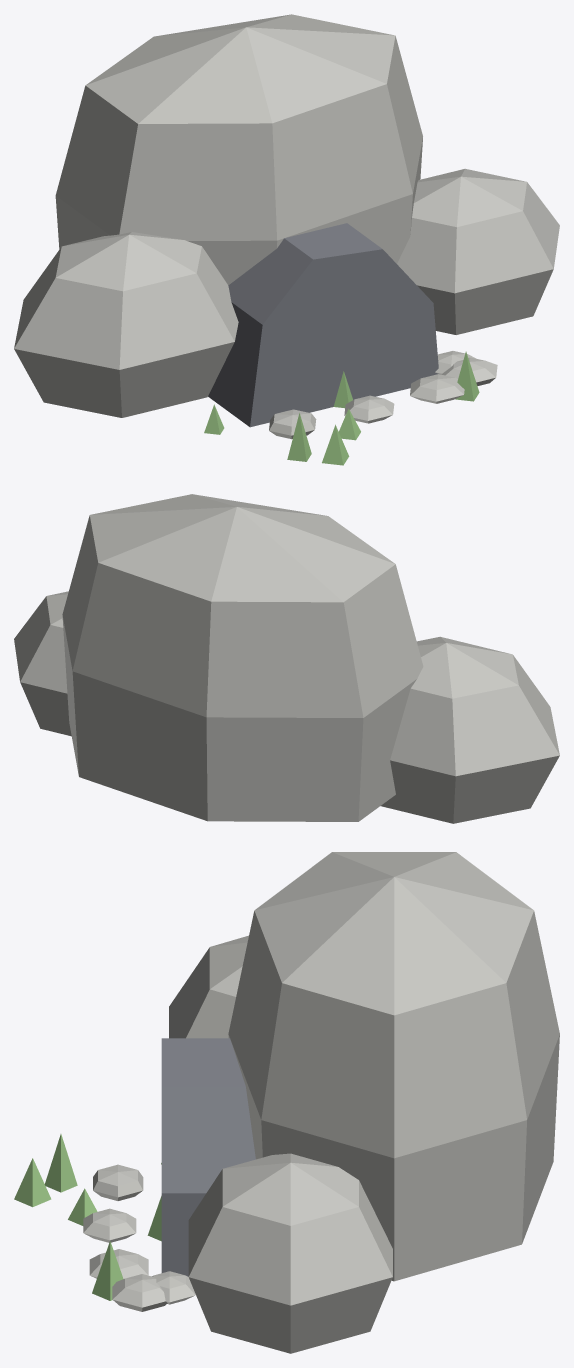
Rendered from cave-mouth.glb.
3 renders of one model, top to bottom at view 1: azimuth 30°, elevation 25°; view 2: azimuth 150°, elevation 25°; view 3: azimuth 270°, elevation 25°, orthographic. The views are drawn at different scales.
Parts seen in each view (by area): view 1: cave-mouth; view 2: cave-mouth; view 3: cave-mouth.
Boxes of the visible parts, left/top/right/bottom form: cave-mouth: left=14, top=14, right=559, bottom=465; cave-mouth: left=14, top=494, right=559, bottom=823; cave-mouth: left=14, top=852, right=559, bottom=1353.
Bounding box in the file's own units: 8.68 × 4.6 × 6.34.
